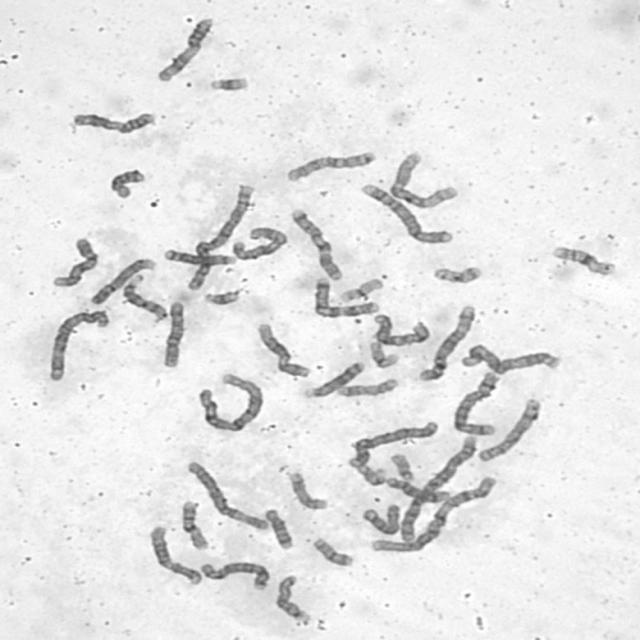A1: (363, 472, 499, 554), (192, 369, 266, 434)
A2: (388, 431, 481, 552), (181, 181, 257, 292)
A3: (44, 305, 112, 383), (457, 340, 564, 375)
B4: (357, 178, 455, 246), (344, 418, 441, 471)
B5: (414, 301, 478, 383), (449, 369, 503, 437)
C10: (282, 148, 379, 184), (157, 297, 188, 369)
C11: (152, 13, 217, 83), (68, 106, 158, 136)
C12: (144, 521, 204, 587), (251, 318, 314, 379)
C6: (182, 457, 271, 533), (386, 147, 461, 210)
C7: (286, 205, 346, 282), (308, 274, 382, 319)
C8: (473, 394, 544, 464), (195, 558, 272, 592)
C9: (86, 254, 159, 307), (49, 238, 102, 286)
D13: (298, 357, 368, 400), (119, 272, 170, 323)
D14: (158, 242, 240, 268), (379, 476, 452, 504)
D15: (272, 571, 314, 626), (360, 501, 406, 539)
E16: (547, 242, 619, 278), (176, 496, 212, 552)
E17: (283, 467, 330, 512), (332, 374, 402, 399)
E18: (260, 504, 296, 551), (105, 165, 148, 200)
F19: (332, 274, 385, 304), (365, 338, 401, 370)
F20: (308, 534, 355, 568), (428, 261, 484, 285)
G21: (204, 72, 251, 93), (199, 287, 242, 307)
G22: (386, 450, 417, 482), (357, 462, 385, 489)
X: (368, 310, 432, 348), (228, 223, 290, 262)
